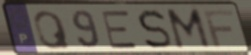9: (70, 8, 102, 52)
E: (99, 9, 141, 50)
F: (202, 9, 236, 49)
M: (164, 7, 214, 52)
Q: (31, 9, 74, 51)
S: (136, 8, 174, 51)
